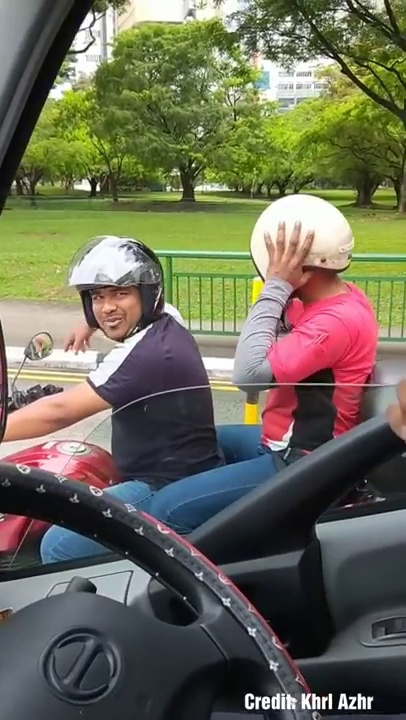helmet: (234, 181, 352, 286), (63, 228, 171, 326)
